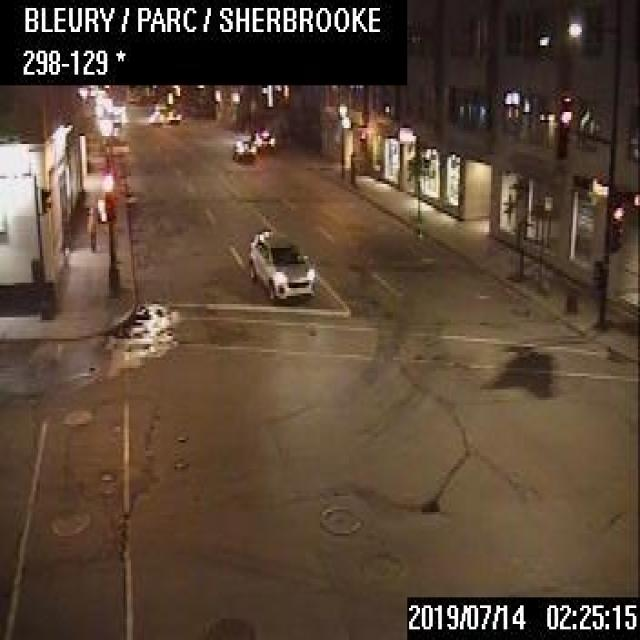pedestrian: (85, 204, 96, 251)
vehicle: (248, 228, 315, 299), (229, 135, 255, 160), (250, 125, 275, 148), (146, 108, 162, 124), (164, 107, 180, 122)
